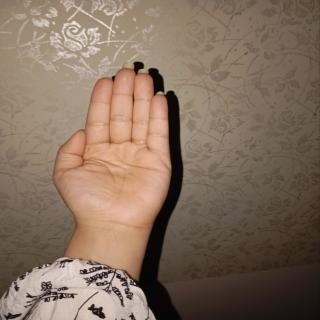SEEN: (53, 56, 178, 250)
